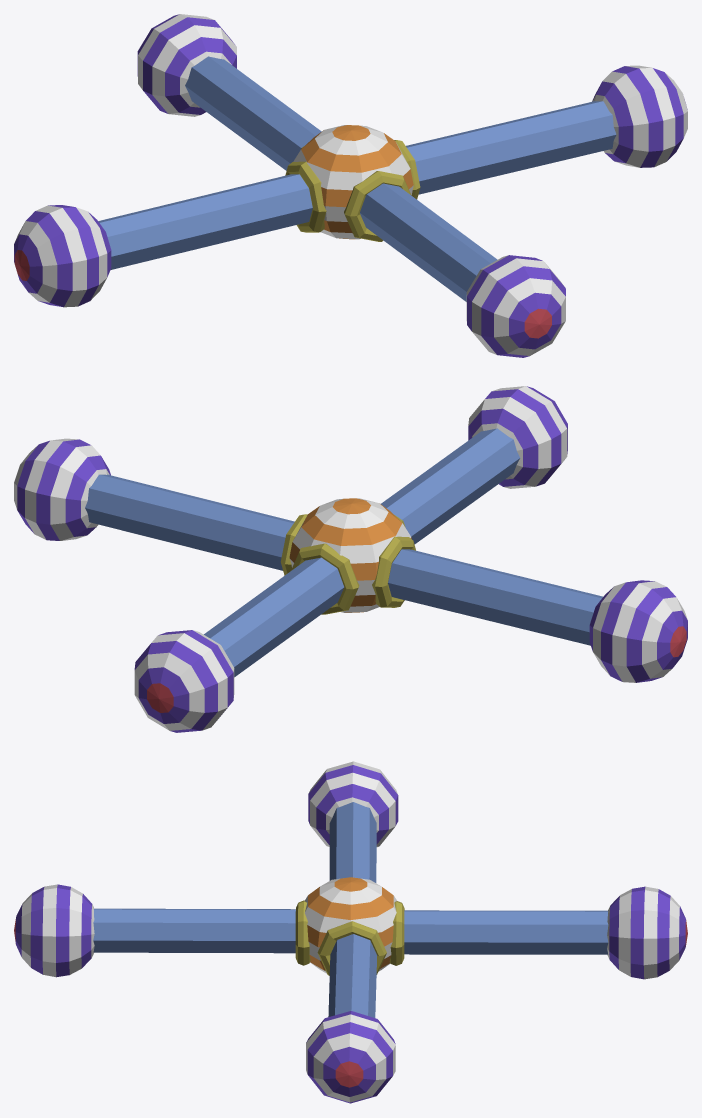
Rendered from ObstacleGroundRotate.fbx.
3 renders of one model, top to bottom at view 1: azimuth 30°, elevation 25°; view 2: azimuth 150°, elevation 25°; view 3: azimuth 270°, elevation 25°, orthographic. The views are drawn at different scales.
Visible parts, largest first — view 1: pCylinder1 (×4), pSphere4 (×4), Center; view 2: pCylinder1 (×4), pSphere4 (×4), Center; view 3: pCylinder1 (×4), pSphere4 (×4), Center.
Part boxes in pixels (bbox=[...]): pCylinder1 (×4): bbox=[98, 56, 616, 301]; pSphere4 (×4): bbox=[14, 14, 687, 357]; Center: bbox=[285, 125, 420, 241]; pCylinder1 (×4): bbox=[85, 428, 602, 677]; pSphere4 (×4): bbox=[14, 386, 687, 732]; Center: bbox=[280, 498, 415, 614]; pCylinder1 (×4): bbox=[93, 802, 608, 1017]; pSphere4 (×4): bbox=[14, 761, 687, 1103]; Center: bbox=[295, 877, 404, 975].
Size of the model in its own units: 488 by 74.03 by 486.
